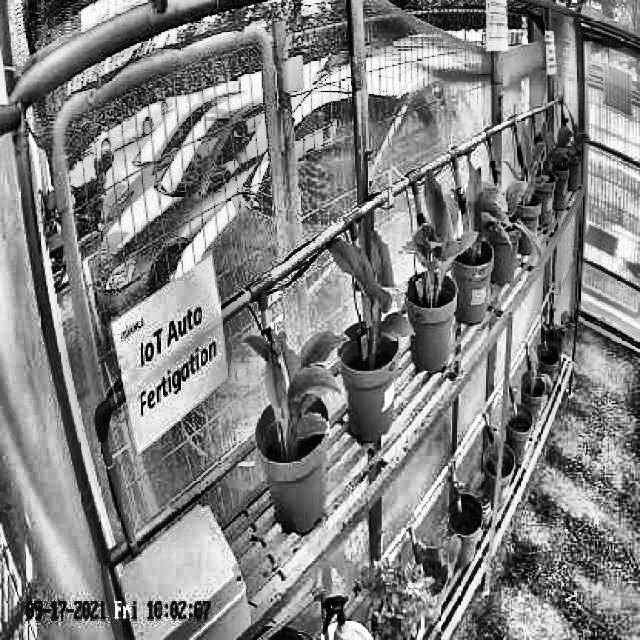plants: (244, 327, 350, 458), (328, 228, 416, 366), (398, 168, 480, 308), (465, 158, 513, 268)
